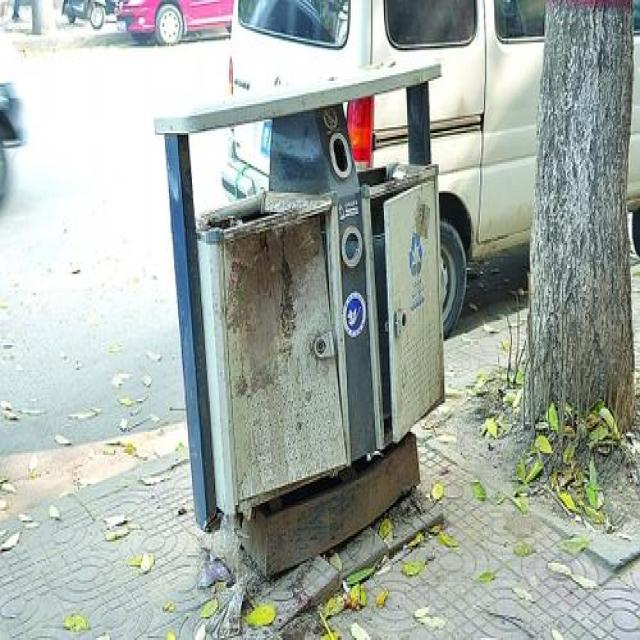garbage_bin: (152, 62, 440, 574)
